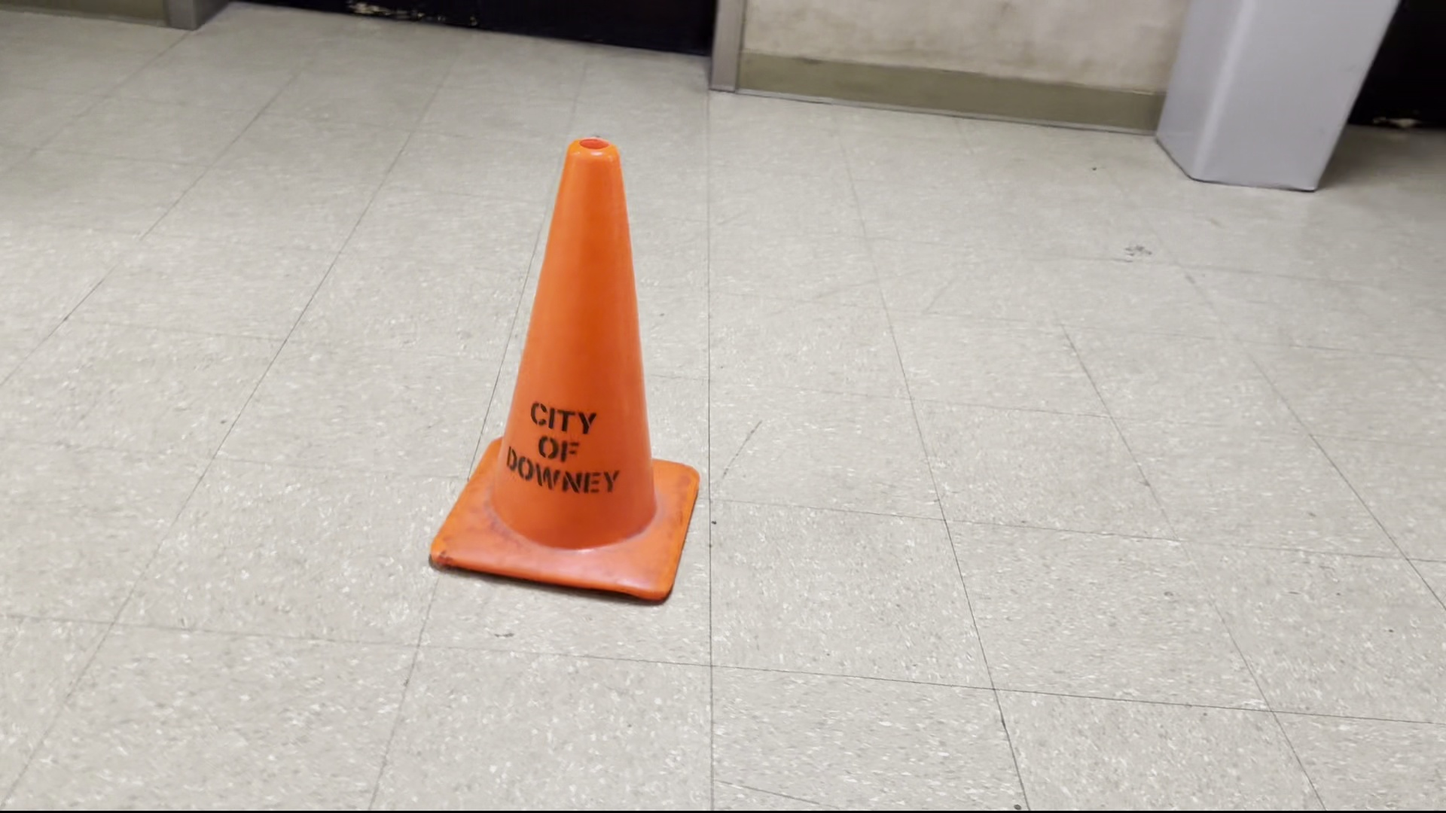traffic_cone: (428, 135, 701, 604)
